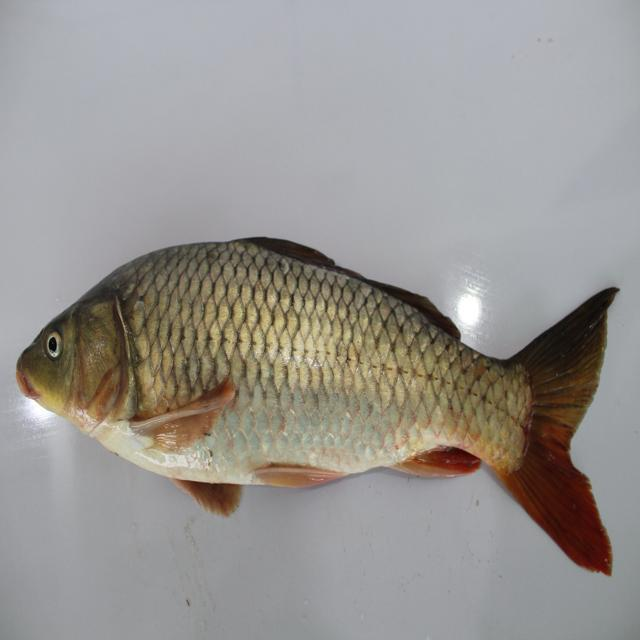Grass Carp: (14, 233, 619, 530)
